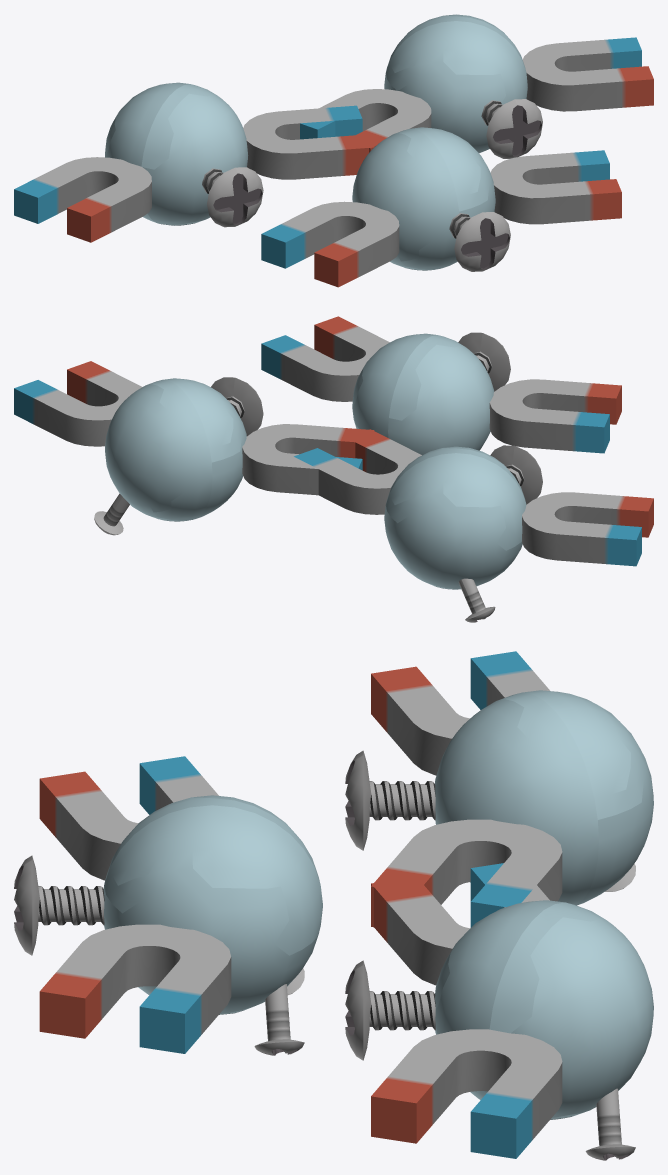
Rendered from Magneton.glb.
3 renders of one model, top to bottom at view 1: azimuth 30°, elevation 25°; view 2: azimuth 150°, elevation 25°; view 3: azimuth 270°, elevation 25°, orthographic. The views are drawn at different scales.
Visible parts, largest first — view 1: mesh_2_pm0082_00_BodyASkin, mesh_9_pm0082_00_BodyBSkin, mesh_1_pm0082_00_BodyASkin, mesh_8_pm0082_00_BodyBSkin, mesh_13_pm0082_00_BodyCSkin, mesh_14_pm0082_00_BodyCSkin, mesh_4_pm0082_00_BodyASkin, mesh_10_pm0082_00_BodyBSkin, mesh_16_pm0082_00_BodyCSkin, mesh_5_pm0082_00_BodyASkin, mesh_11_pm0082_00_BodyBSkin, mesh_17_pm0082_00_BodyCSkin; view 2: mesh_14_pm0082_00_BodyCSkin, mesh_8_pm0082_00_BodyBSkin, mesh_2_pm0082_00_BodyASkin, mesh_9_pm0082_00_BodyBSkin, mesh_1_pm0082_00_BodyASkin, mesh_13_pm0082_00_BodyCSkin, mesh_15_pm0082_00_BodyCSkin, mesh_6_pm0082_00_BodyBSkin, mesh_3_pm0082_00_BodyASkin; view 3: mesh_1_pm0082_00_BodyASkin, mesh_14_pm0082_00_BodyCSkin, mesh_8_pm0082_00_BodyBSkin, mesh_2_pm0082_00_BodyASkin, mesh_13_pm0082_00_BodyCSkin, mesh_9_pm0082_00_BodyBSkin, mesh_3_pm0082_00_BodyASkin, mesh_15_pm0082_00_BodyCSkin, mesh_6_pm0082_00_BodyBSkin, mesh_4_pm0082_00_BodyASkin, mesh_16_pm0082_00_BodyCSkin, mesh_10_pm0082_00_BodyBSkin.
Boxes of the visible parts, x1,y1,x2,y2 form: mesh_2_pm0082_00_BodyASkin: [261, 150, 621, 287]; mesh_9_pm0082_00_BodyBSkin: [14, 105, 374, 242]; mesh_1_pm0082_00_BodyASkin: [352, 127, 495, 269]; mesh_8_pm0082_00_BodyBSkin: [105, 82, 248, 224]; mesh_13_pm0082_00_BodyCSkin: [300, 37, 653, 152]; mesh_14_pm0082_00_BodyCSkin: [384, 14, 527, 152]; mesh_4_pm0082_00_BodyASkin: [454, 212, 510, 271]; mesh_10_pm0082_00_BodyBSkin: [207, 167, 263, 227]; mesh_16_pm0082_00_BodyCSkin: [486, 99, 542, 158]; mesh_5_pm0082_00_BodyASkin: [461, 218, 509, 269]; mesh_11_pm0082_00_BodyBSkin: [213, 173, 262, 224]; mesh_17_pm0082_00_BodyCSkin: [493, 105, 541, 156]; mesh_14_pm0082_00_BodyCSkin: [105, 378, 246, 520]; mesh_8_pm0082_00_BodyBSkin: [384, 446, 526, 588]; mesh_2_pm0082_00_BodyASkin: [261, 316, 621, 453]; mesh_9_pm0082_00_BodyBSkin: [294, 429, 653, 566]; mesh_1_pm0082_00_BodyASkin: [352, 333, 494, 455]; mesh_13_pm0082_00_BodyCSkin: [14, 361, 374, 495]; mesh_15_pm0082_00_BodyCSkin: [94, 377, 263, 534]; mesh_6_pm0082_00_BodyBSkin: [458, 445, 542, 619]; mesh_3_pm0082_00_BodyASkin: [458, 332, 510, 391]; mesh_1_pm0082_00_BodyASkin: [103, 795, 322, 1013]; mesh_14_pm0082_00_BodyCSkin: [435, 900, 653, 1117]; mesh_8_pm0082_00_BodyBSkin: [435, 690, 653, 905]; mesh_2_pm0082_00_BodyASkin: [39, 756, 231, 1053]; mesh_13_pm0082_00_BodyCSkin: [371, 863, 562, 1158]; mesh_9_pm0082_00_BodyBSkin: [371, 651, 562, 927]; mesh_3_pm0082_00_BodyASkin: [32, 856, 304, 1045]; mesh_15_pm0082_00_BodyCSkin: [363, 961, 634, 1150]; mesh_6_pm0082_00_BodyBSkin: [363, 751, 635, 891]; mesh_4_pm0082_00_BodyASkin: [14, 855, 304, 1055]; mesh_16_pm0082_00_BodyCSkin: [345, 960, 635, 1160]; mesh_10_pm0082_00_BodyBSkin: [345, 751, 623, 891].
Size of the model in its own units: 134 by 29.16 by 77.28.
Materials: 18 (18 with a texture image).
